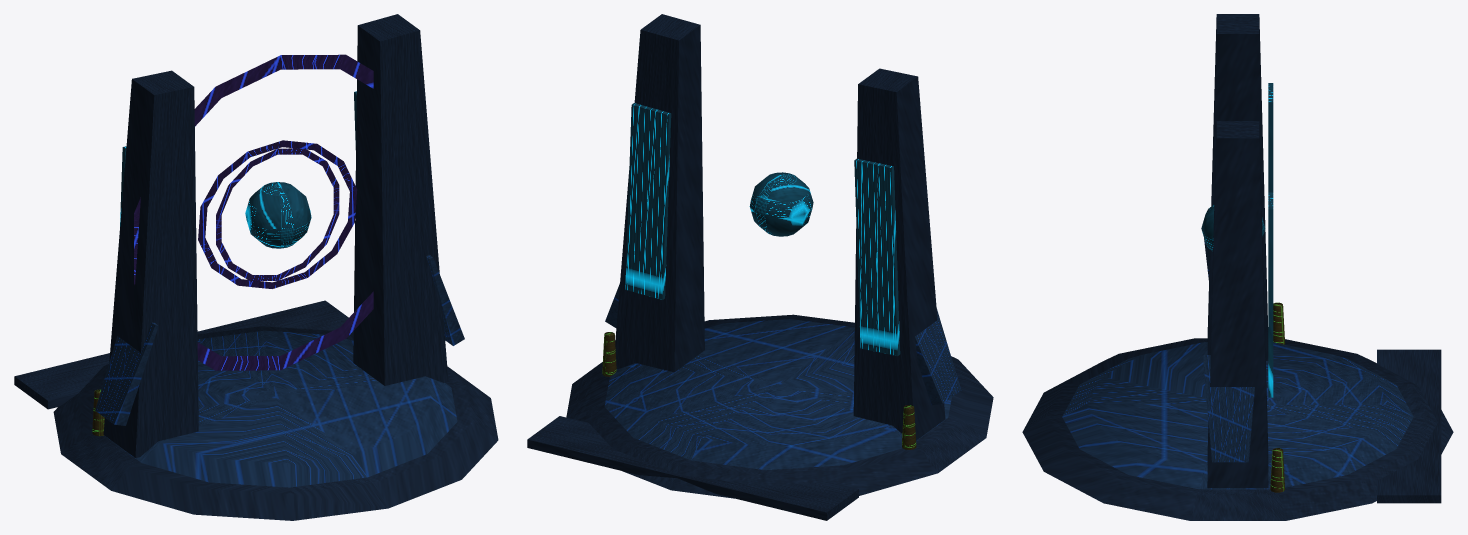
The model's file is command-horizon-arrival-gate-lod1-textured.glb.
The picture shows the model from 3 angles, left to right: view 1: azimuth 30°, elevation 25°; view 2: azimuth 150°, elevation 25°; view 3: azimuth 270°, elevation 25°; orthographic projection. The views are drawn at different scales.
Visible parts, largest first — view 1: arrival-tier, arrival-pylon-1, arrival-pylon--1, arrival-plinth, arrival-arch, arrival-front-step, arrival-core, arrival-orbit-1, arrival-fin--1, arrival-orbit-0, arrival-fin-1; view 2: arrival-tier, arrival-pylon-1, arrival-pylon--1, arrival-plinth, arrival-panel--1, arrival-panel-1, arrival-front-step, arrival-core, arrival-fin--1, arrival-beacon--1, arrival-beacon-1; view 3: arrival-tier, arrival-plinth, arrival-pylon-1, arrival-pylon--1, arrival-front-step, arrival-fin-1, arrival-panel-1, arrival-panel--1, arrival-beacon-1.
Boxes of the visible parts, box(x1,y1,x2,y2) form: arrival-tier: box(104, 330, 457, 487); arrival-pylon-1: box(353, 14, 448, 385); arrival-pylon--1: box(103, 70, 198, 457); arrival-plinth: box(53, 326, 498, 520); arrival-arch: box(134, 54, 373, 370); arrival-front-step: box(14, 300, 353, 409); arrival-core: box(245, 182, 311, 248); arrival-orbit-1: box(198, 140, 357, 288); arrival-fin--1: box(95, 322, 158, 425); arrival-orbit-0: box(216, 148, 339, 280); arrival-fin-1: box(426, 255, 464, 345); arrival-tier: box(604, 319, 951, 470); arrival-pylon-1: box(615, 14, 704, 372); arrival-pylon--1: box(853, 68, 945, 440); arrival-plinth: box(566, 314, 993, 498); arrival-panel--1: box(854, 158, 900, 356); arrival-panel-1: box(625, 103, 671, 299); arrival-front-step: box(527, 416, 858, 520); arrival-core: box(749, 172, 813, 236); arrival-fin--1: box(915, 308, 961, 405); arrival-beacon--1: box(902, 405, 916, 449); arrival-beacon-1: box(602, 332, 616, 376); arrival-tier: box(1062, 342, 1413, 489); arrival-plinth: box(1022, 338, 1453, 520); arrival-pylon-1: box(1207, 121, 1268, 488); arrival-pylon--1: box(1207, 14, 1268, 360); arrival-front-step: box(1377, 349, 1441, 503); arrival-fin-1: box(1203, 355, 1254, 462); arrival-panel-1: box(1268, 192, 1273, 397); arrival-panel--1: box(1268, 83, 1273, 192); arrival-beacon-1: box(1270, 448, 1285, 492).
Bounding box in the file's own units: 5.5 × 5.18 × 5.64.
5 materials, 5 textured.
